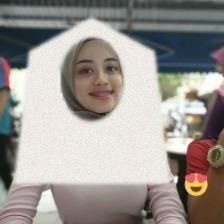Mukena: (14, 17, 169, 183)
